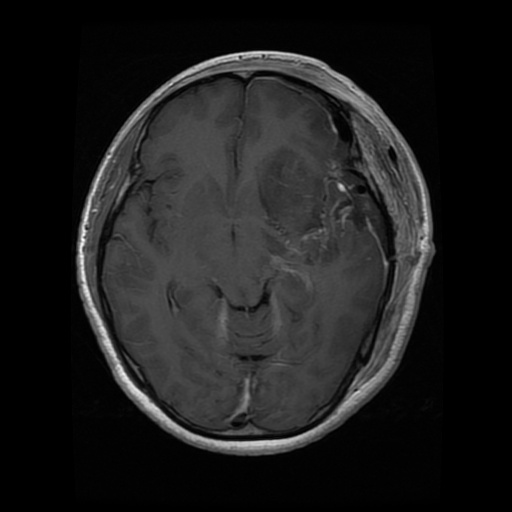glioma: (254, 148, 386, 264)
